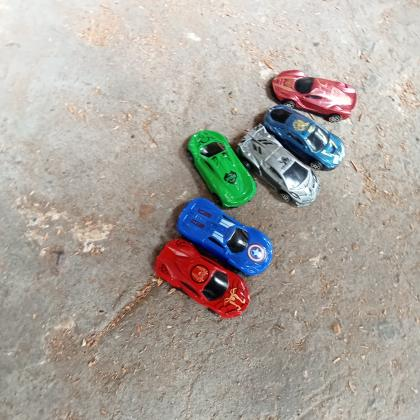Car: (151, 236, 252, 319), (175, 197, 275, 277), (237, 124, 322, 208), (185, 128, 258, 208), (263, 104, 346, 172), (271, 68, 358, 124)
